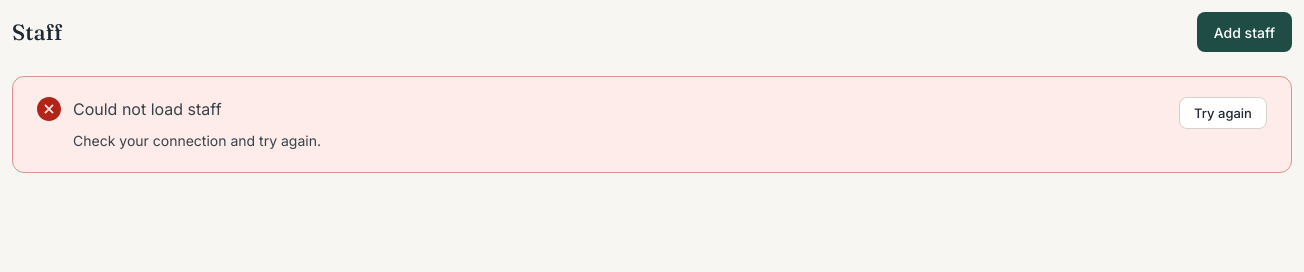
Test case: StaffView › renders skeleton rows, Empty with Add staff CTA, and error Alert with Try again
The width and height of the screenshot is (1304, 272).
Expected: the text "Could not load staff" is shown, x1=73 y1=99 x2=222 y2=119
Click the button "Try again": (1223, 113) x1=1179 y1=97 x2=1267 y2=129
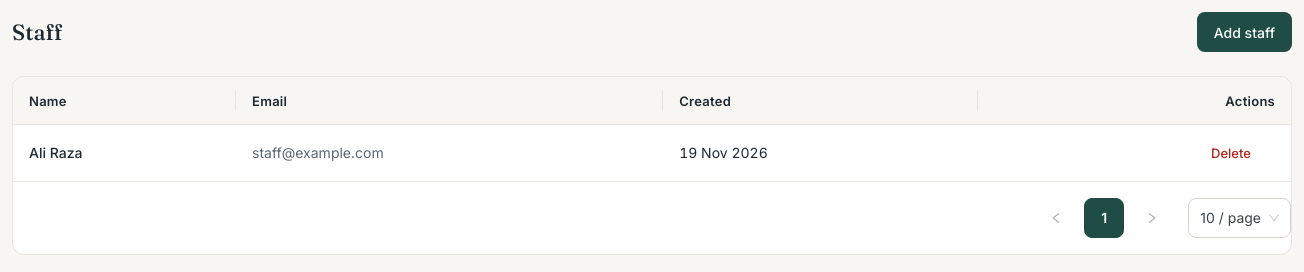
Now the text "Ali Raza" is shown, box x1=29 y1=144 x2=82 y2=161
